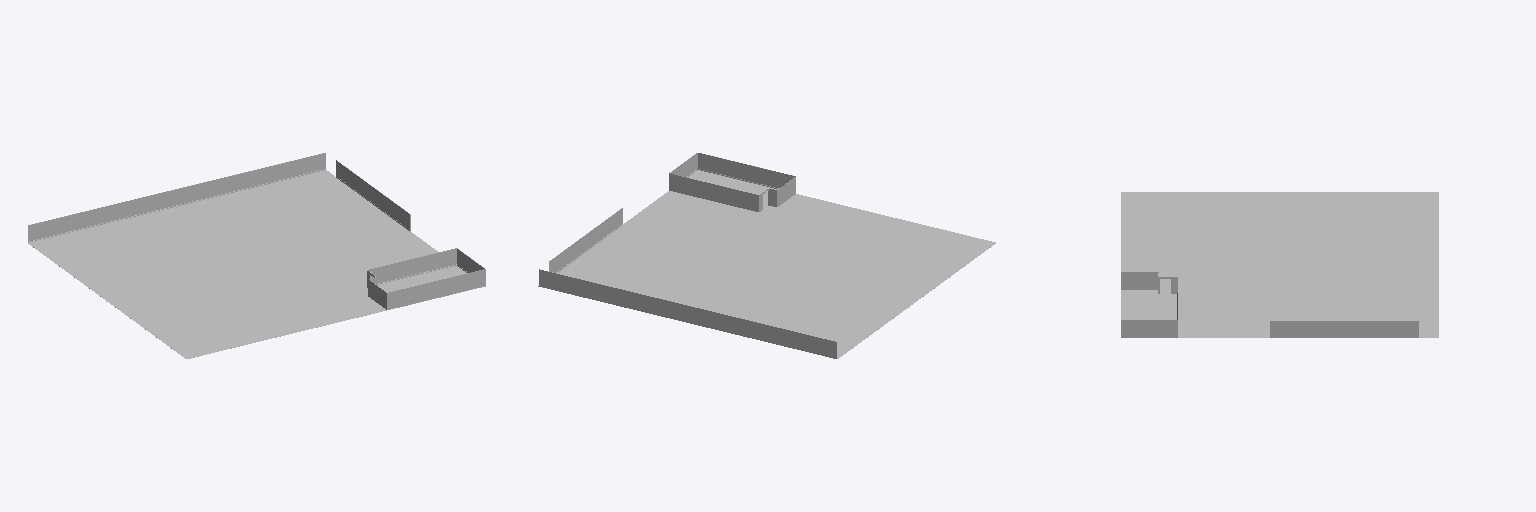
Rendered from house.obj.
3 renders of one model, left to right at view 1: azimuth 30°, elevation 25°; view 2: azimuth 150°, elevation 25°; view 3: azimuth 270°, elevation 25°, orthographic.
Visible parts, largest first — view 1: DoorFrame.002_Cube.013; view 2: DoorFrame.002_Cube.013; view 3: DoorFrame.002_Cube.013.
Boxes of the visible parts, x1,y1,x2,y2 form: DoorFrame.002_Cube.013: [28, 153, 485, 358]; DoorFrame.002_Cube.013: [538, 153, 995, 358]; DoorFrame.002_Cube.013: [1121, 192, 1438, 337].
Bounding box in the file's own units: 830 × 46.25 × 764.